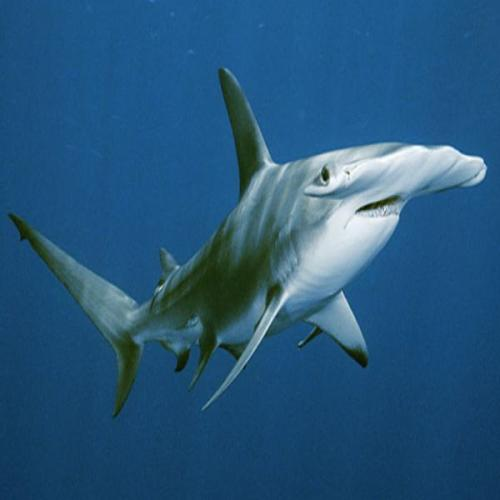shark-endangered: (6, 67, 487, 421)
